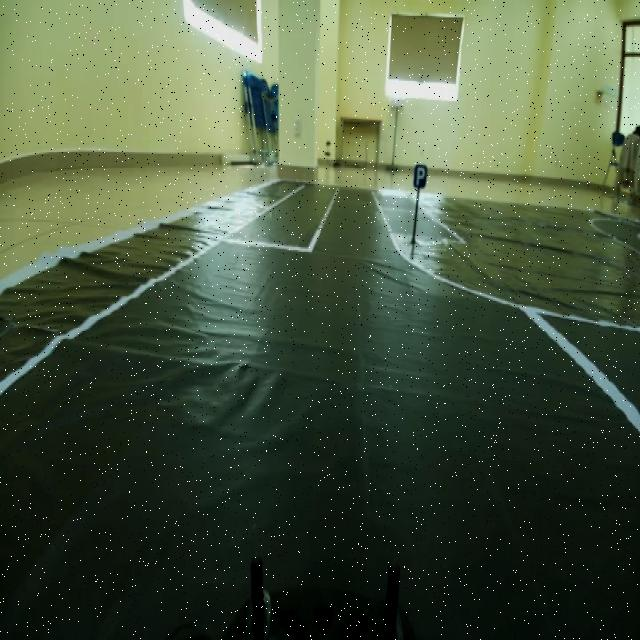parking: (409, 156, 428, 191)
